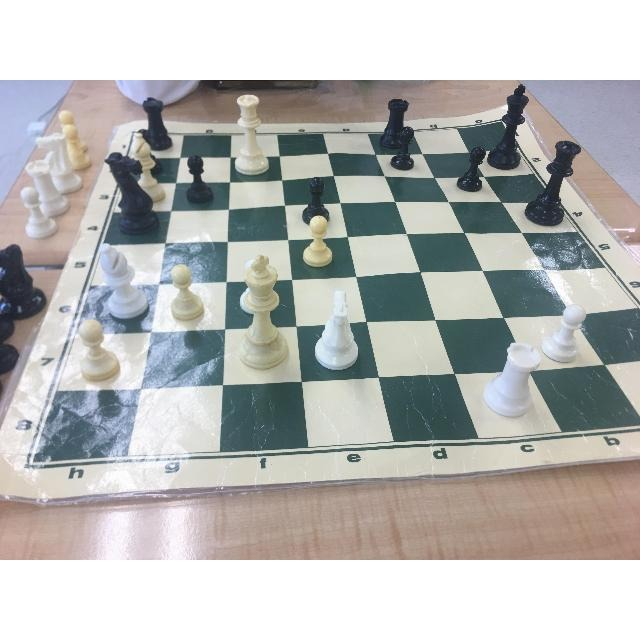black-knight: (98, 149, 161, 232)
black-pawn: (451, 138, 487, 194), (296, 167, 331, 222), (180, 148, 214, 198), (397, 123, 421, 170)
black-queen: (517, 134, 592, 224), (497, 81, 529, 188)
black-rook: (137, 98, 181, 153), (380, 99, 408, 149)
white-bishop: (87, 241, 153, 313), (122, 124, 164, 197)
white-king: (227, 246, 294, 372)
white-knight: (307, 290, 369, 384)
white-pawn: (78, 312, 128, 373), (163, 264, 213, 323), (540, 298, 587, 358), (295, 213, 342, 269)
white-queen: (237, 92, 279, 172)
white-rook: (480, 329, 546, 423)
